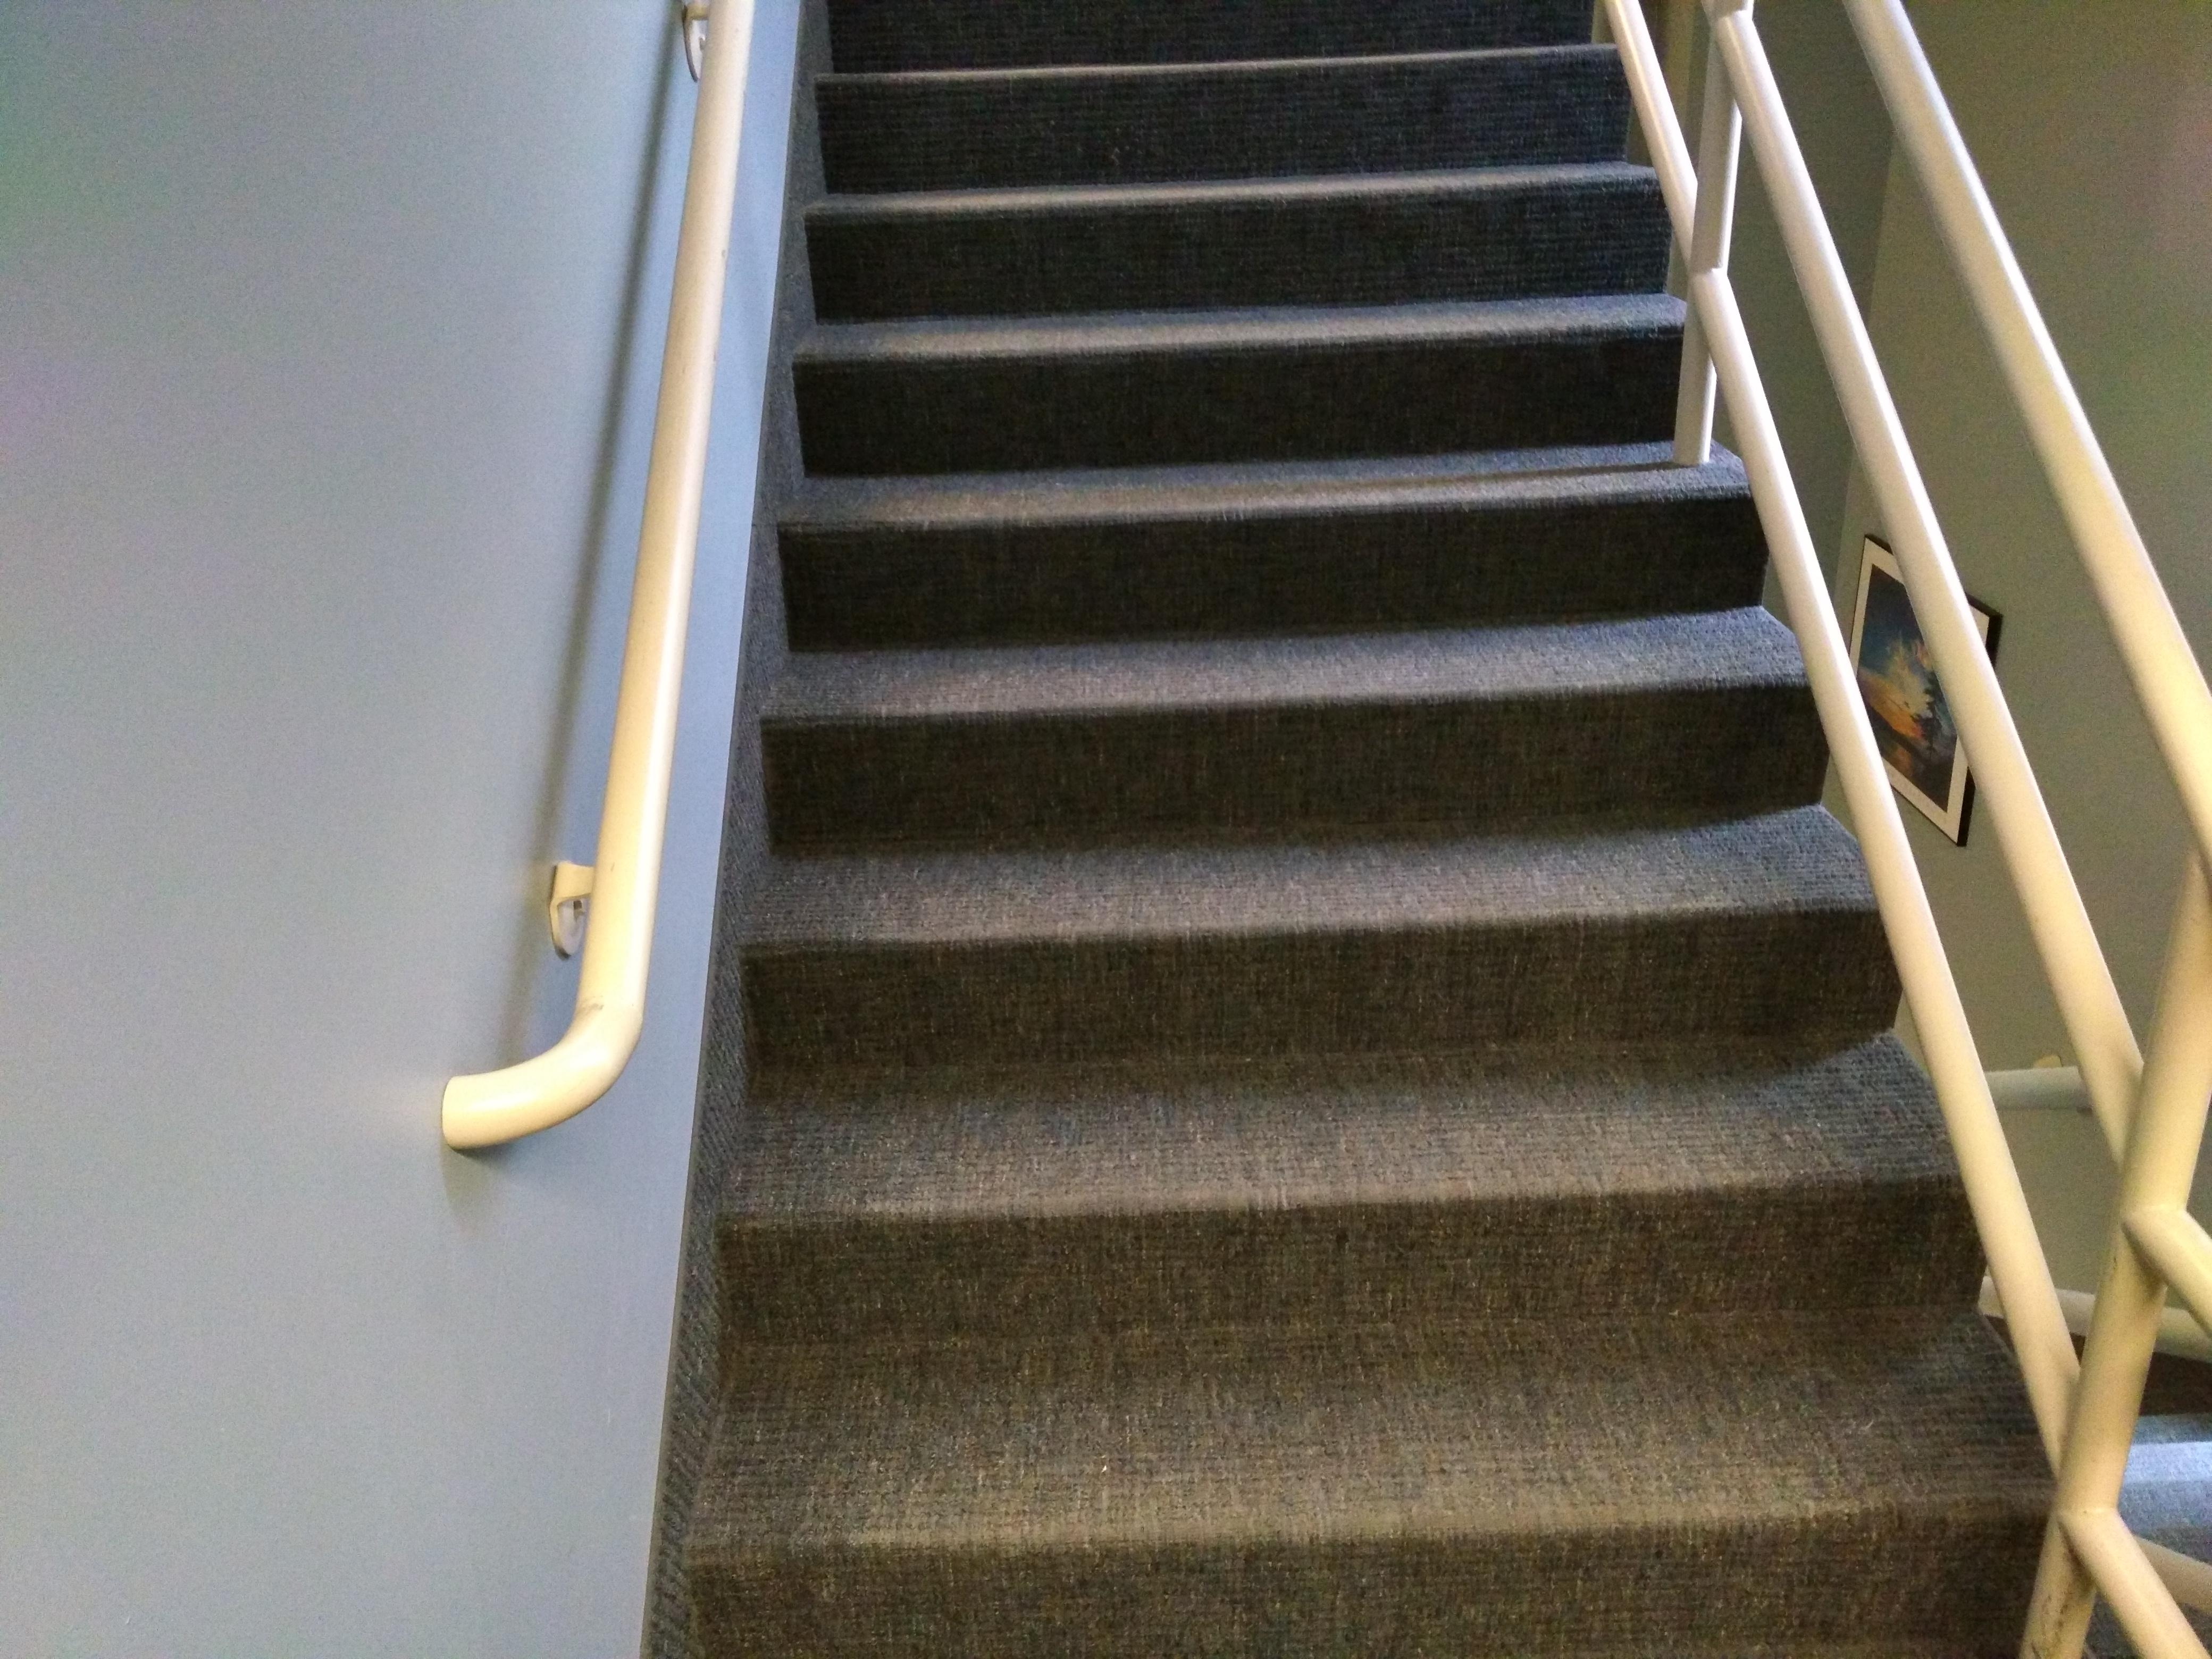stairs_up: (636, 2, 2069, 1561)
